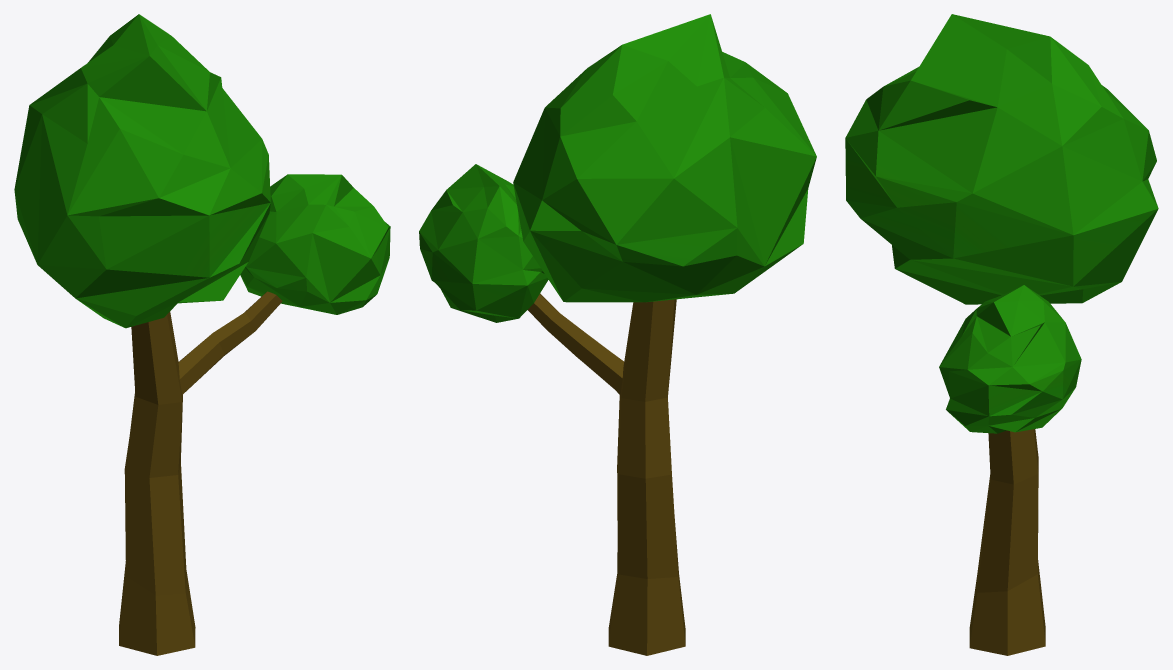
Rendered from SM_Tree1_LOD0.fbx.
The picture shows the model from 3 angles, left to right: view 1: azimuth 30°, elevation 25°; view 2: azimuth 150°, elevation 25°; view 3: azimuth 270°, elevation 25°; orthographic projection.
Parts seen in each view (by area): view 1: SM_Tree1_LOD0; view 2: SM_Tree1_LOD0; view 3: SM_Tree1_LOD0.
Part boxes in pixels (box(x1,y1,x2,y2)): SM_Tree1_LOD0: box(14, 14, 390, 655); SM_Tree1_LOD0: box(419, 14, 816, 655); SM_Tree1_LOD0: box(845, 14, 1158, 655).
Bounding box in the file's own units: 9.01 × 14.9 × 6.96.
